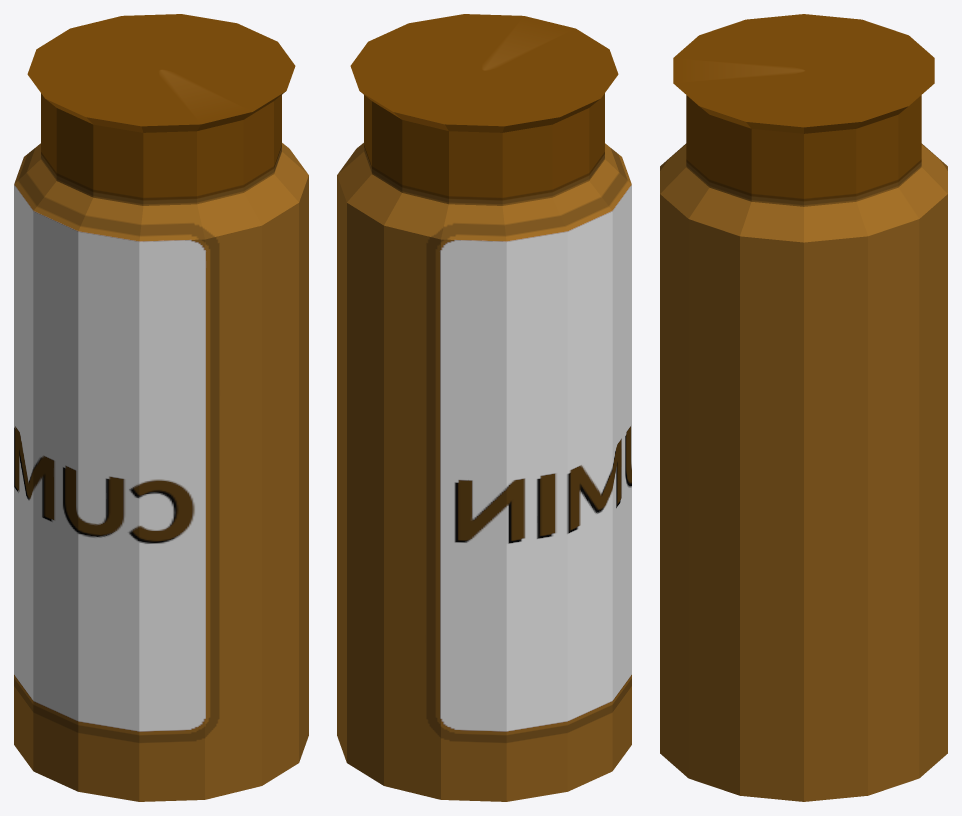
The model's file is spice_cumin.obj.
The picture shows the model from 3 angles, left to right: view 1: azimuth 30°, elevation 25°; view 2: azimuth 150°, elevation 25°; view 3: azimuth 270°, elevation 25°; orthographic projection.
Parts seen in each view (by area): view 1: spice_cumin; view 2: spice_cumin; view 3: spice_cumin.
Boxes of the visible parts, box(x1,y1,x2,y2) form: spice_cumin: box(14, 14, 308, 801); spice_cumin: box(337, 14, 631, 801); spice_cumin: box(660, 14, 947, 801).
Size of the model in its own units: 0.044 by 0.11 by 0.0429.
1 material, 1 textured.
